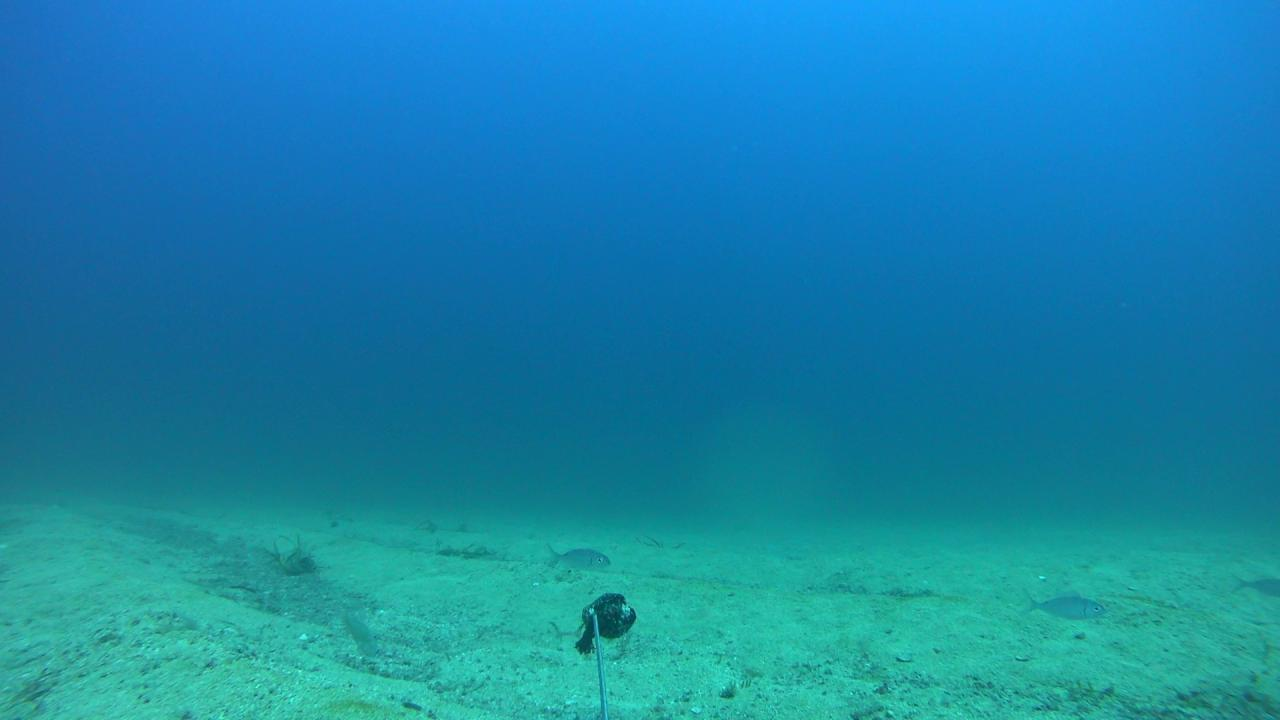pagellus: (1017, 587, 1105, 621), (546, 545, 614, 570)
raor: (340, 606, 383, 656)
